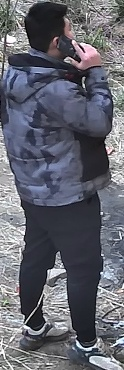phone: (16, 4, 115, 145)
